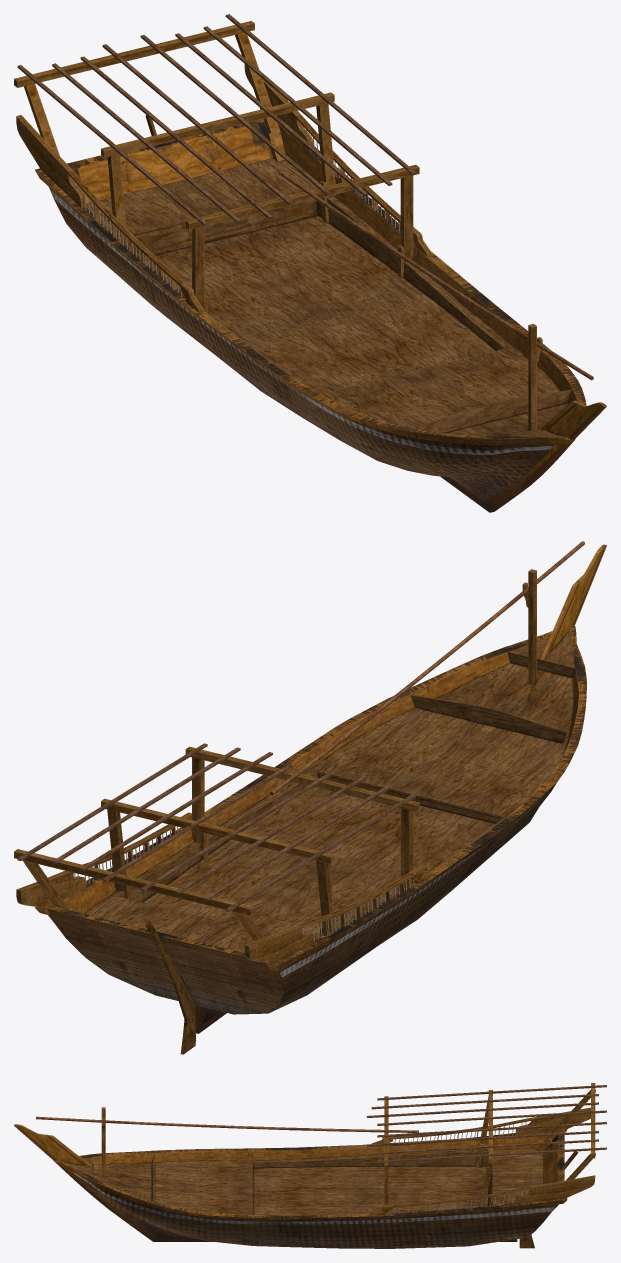
File: Boat02.dae
The picture shows the model from 3 angles, top to bottom: view 1: azimuth 30°, elevation 25°; view 2: azimuth 150°, elevation 25°; view 3: azimuth 270°, elevation 25°; orthographic projection. The views are drawn at different scales.
Parts seen in each view (by area): view 1: Base_02; view 2: Base_02; view 3: Base_02.
Part boxes in pixels (left/top/right/bottom): Base_02: left=14, top=14, right=606, bottom=512; Base_02: left=14, top=541, right=606, bottom=1054; Base_02: left=14, top=1083, right=606, bottom=1248.
Bounding box in the file's own units: 674 × 2320 × 602.
Materials: 1 (1 with a texture image).
